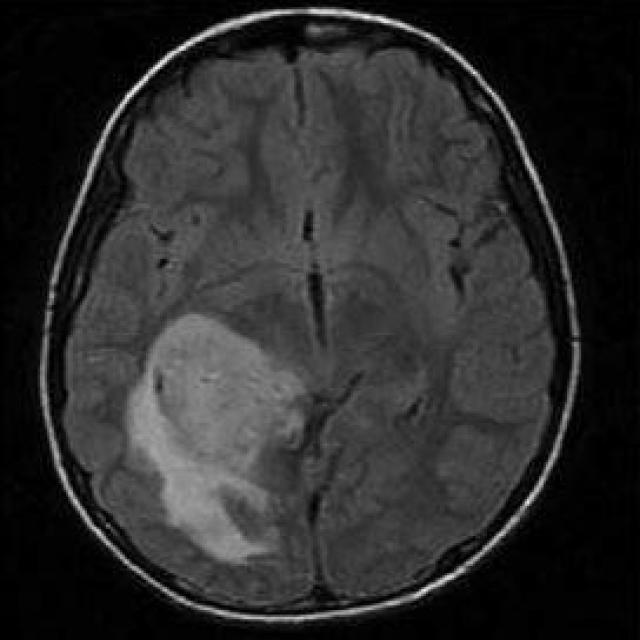Tumor-Cell: (129, 320, 322, 516)
